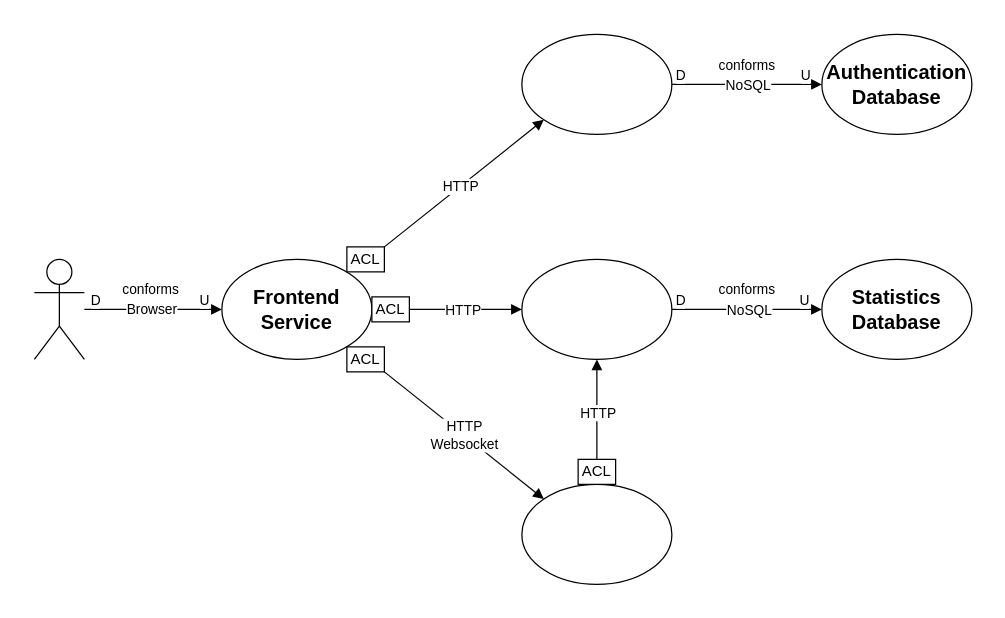
Some shapes in this 1005 by 618 pixel diagram are drawn without their labels. Each missing label, with the centre of its shape:
"Authentication Service" belongs at point 596,83.
"Chess Game Service" belongs at point 596,533.
"Statistics Service" belongs at point 596,308.
"User" belongs at point 58,308.
